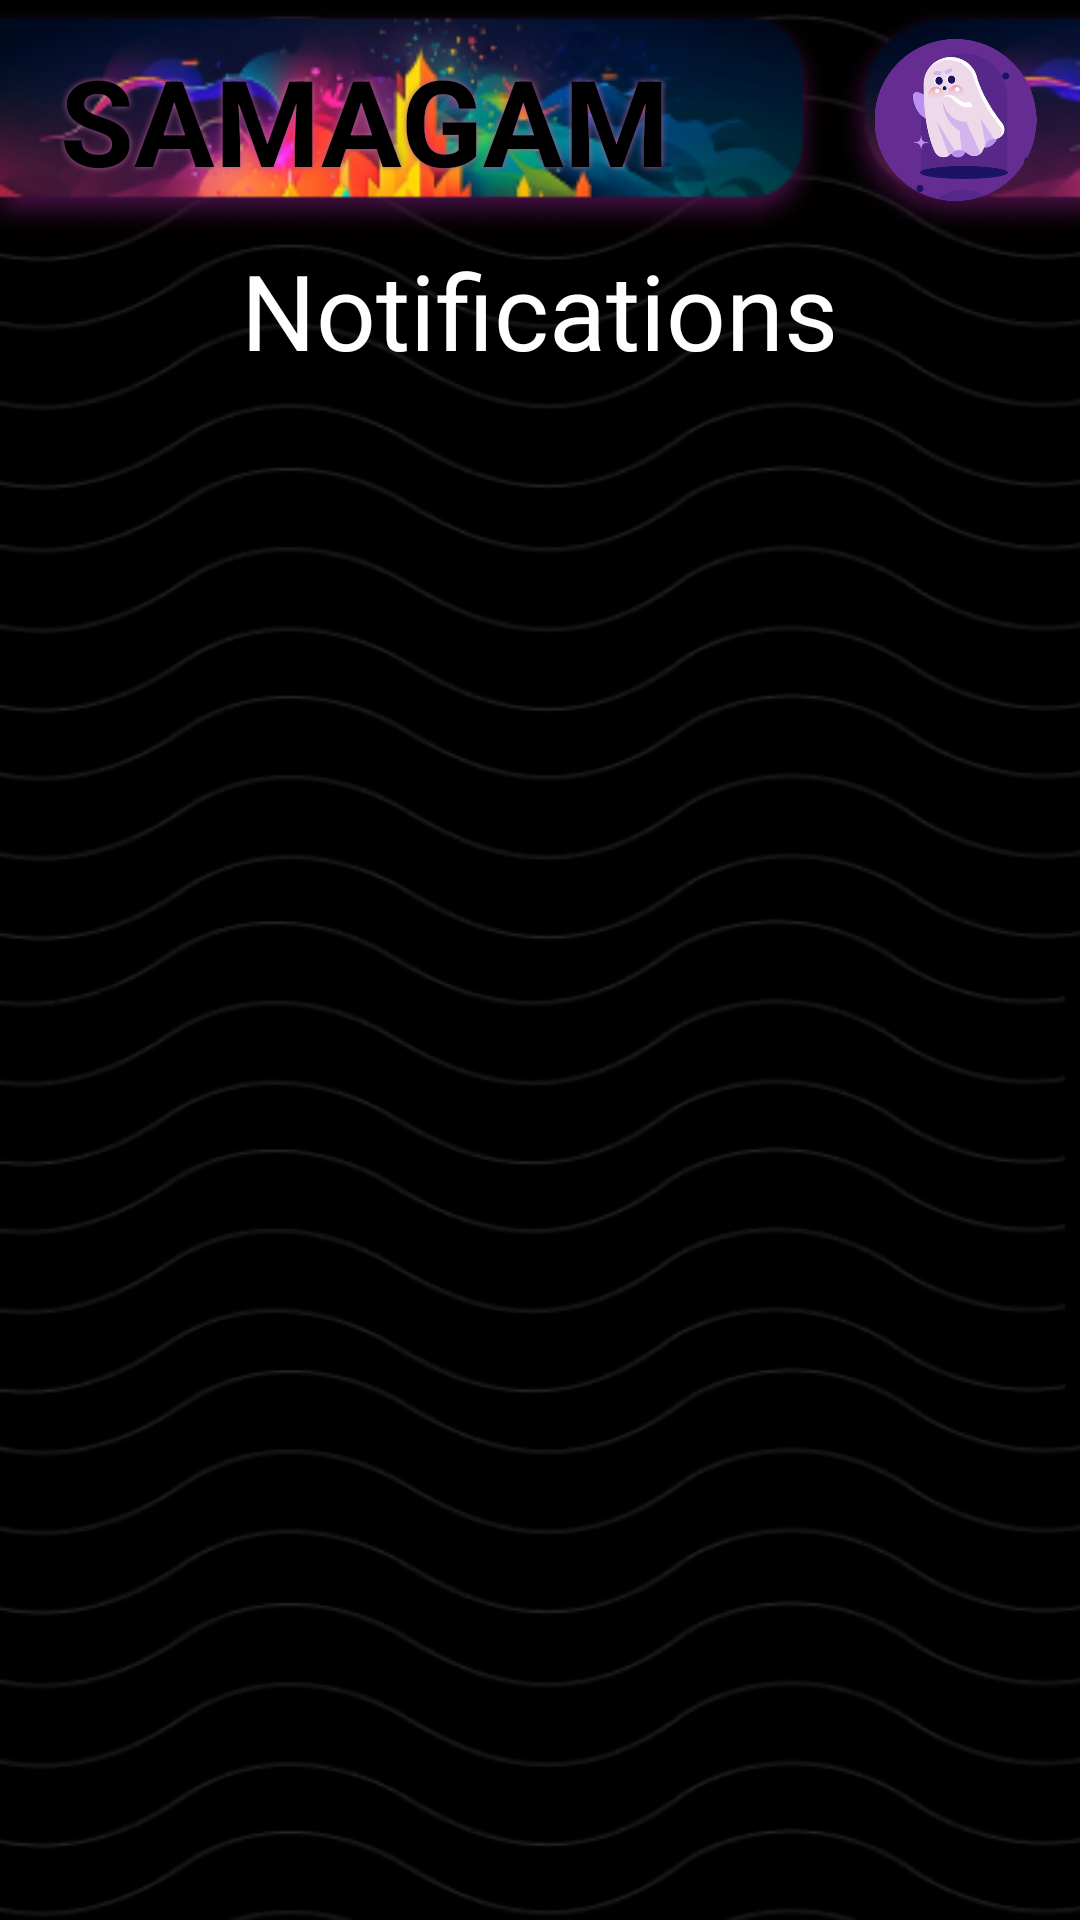

Locate icon controls on the screen. Image size 1080*1920, boxes as bbox=[x1, y1, x2, y2].
ghost: bbox=[831, 18, 1080, 228]
